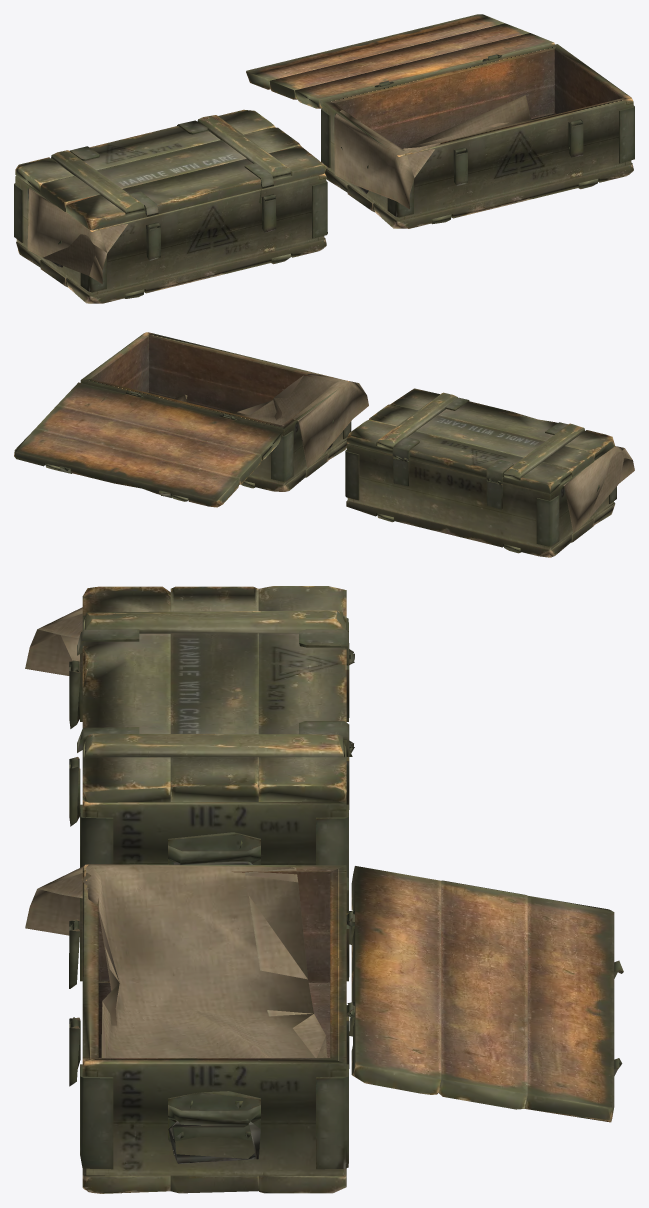
The model's file is ph_old_military_crate.glb.
3 renders of one model, top to bottom at view 1: azimuth 30°, elevation 25°; view 2: azimuth 150°, elevation 25°; view 3: azimuth 270°, elevation 25°, orthographic. The views are drawn at different scales.
Visible parts, largest first — view 1: old_military_crate_lid_a; view 2: old_military_crate_lid_a; view 3: old_military_crate_lid_a.
Part boxes in pixels (box(x1,y1,x2,y2)): old_military_crate_lid_a: box(14, 14, 634, 303); old_military_crate_lid_a: box(14, 332, 634, 557); old_military_crate_lid_a: box(25, 586, 623, 1193).
Bounding box in the file's own units: 1.81 × 0.2982 × 0.9754.
Materials: 1 (1 with a texture image).
